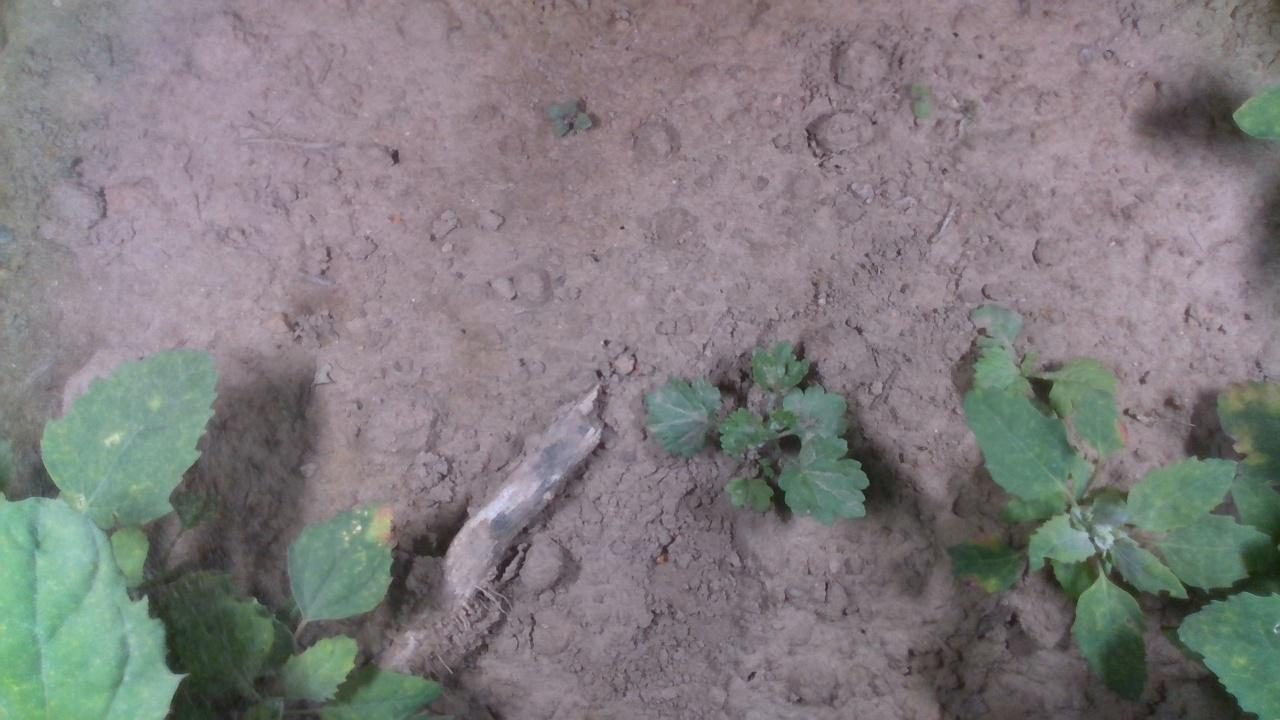weed: (545, 98, 588, 140), (907, 77, 930, 120)
